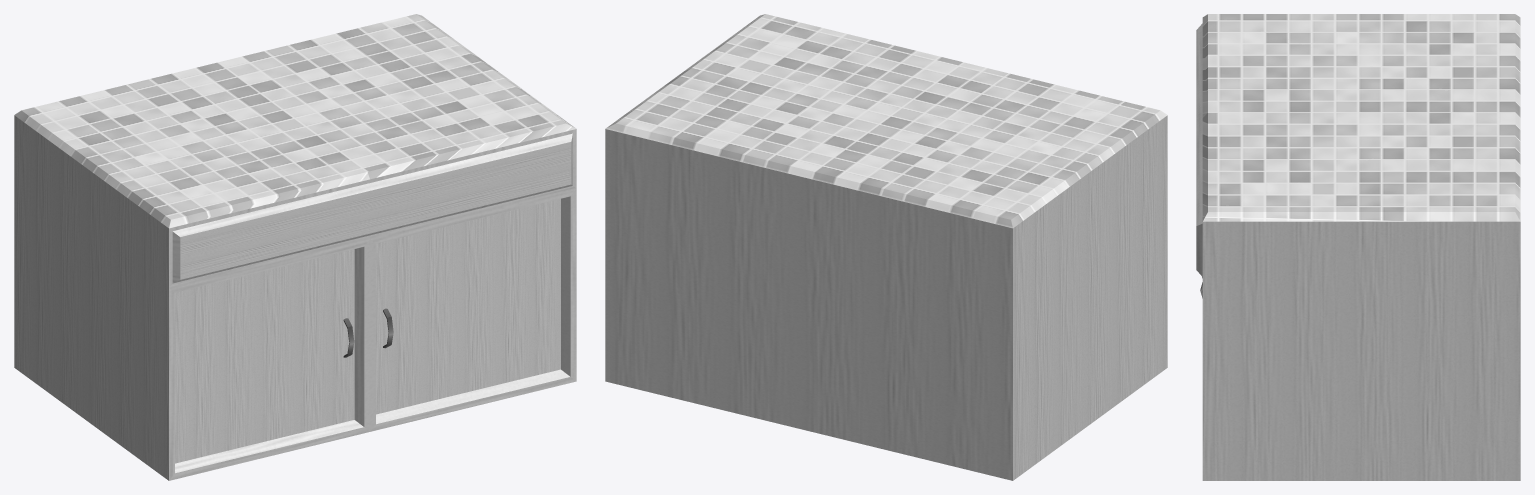
File: Kitchen_Counter_B_3_2.FBX
3 renders of one model, left to right at view 1: azimuth 30°, elevation 25°; view 2: azimuth 150°, elevation 25°; view 3: azimuth 270°, elevation 25°, orthographic. The views are drawn at different scales.
Parts seen in each view (by area): view 1: Counter_A_3; view 2: Counter_A_3; view 3: Counter_A_3.
Part boxes in pixels (box(x1,y1,x2,y2)): Counter_A_3: box(14, 14, 576, 480); Counter_A_3: box(605, 14, 1167, 480); Counter_A_3: box(1196, 14, 1520, 480).
Size of the model in its own units: 228 by 138 by 153.
